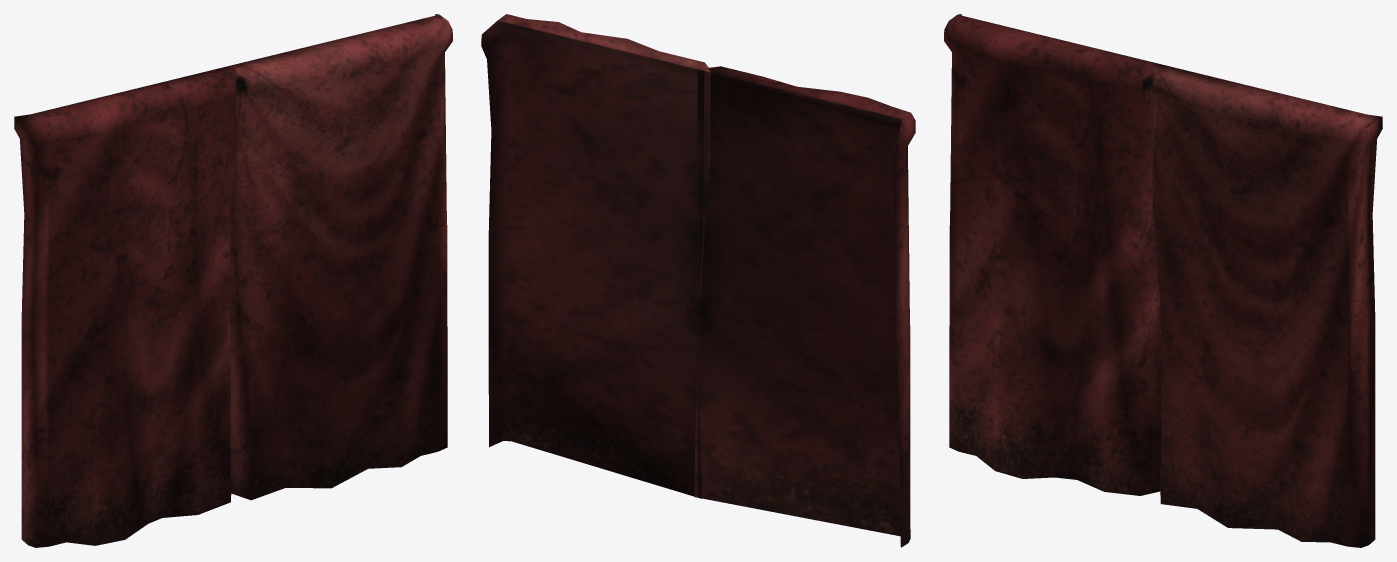
Rendered from curtain01_fullyclosed.dae.
3 renders of one model, left to right at view 1: azimuth 30°, elevation 25°; view 2: azimuth 150°, elevation 25°; view 3: azimuth 330°, elevation 25°, orthographic.
Parts seen in each view (by area): view 1: Object001; view 2: Object001; view 3: Object001.
Part boxes in pixels (left/top/right/bottom): Object001: left=14, top=14, right=452, bottom=547; Object001: left=481, top=14, right=915, bottom=547; Object001: left=944, top=14, right=1382, bottom=547.
Bounding box in the file's own units: 3.74 × 3.68 × 0.432.
